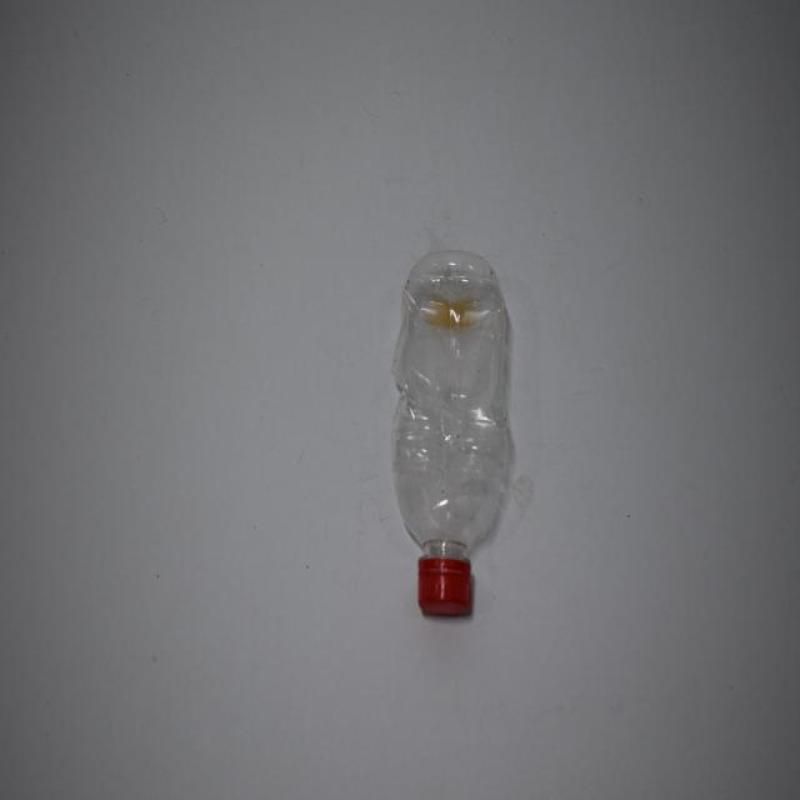botella: (388, 245, 513, 616)
